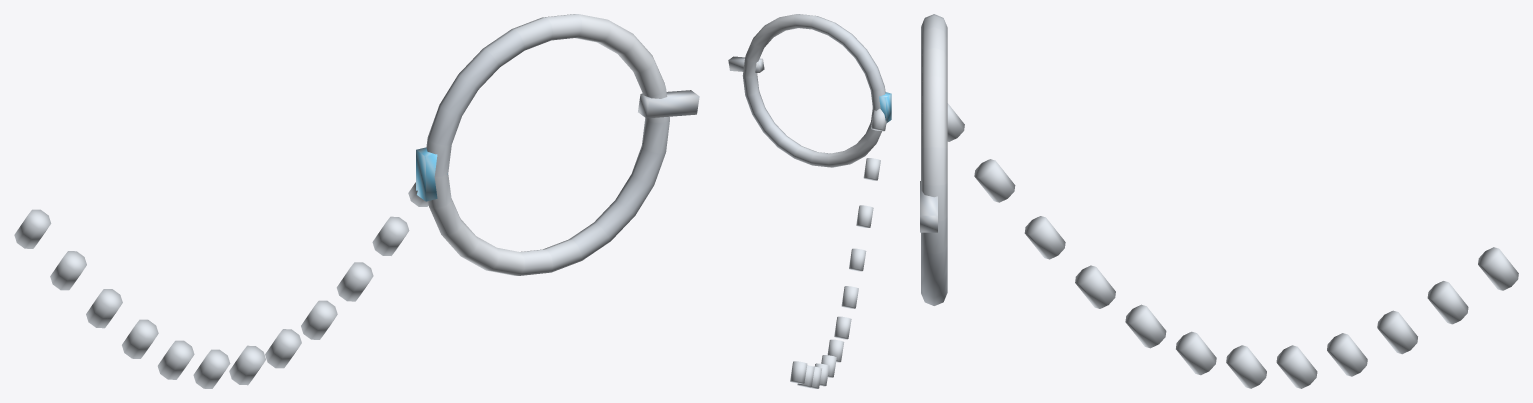
File: silver-monocle.glb
3 renders of one model, left to right at view 1: azimuth 30°, elevation 25°; view 2: azimuth 150°, elevation 25°; view 3: azimuth 270°, elevation 25°, orthographic. The views are drawn at different scales.
Parts seen in each view (by area): view 1: TS_HeadProp_silver-monocle; view 2: TS_HeadProp_silver-monocle; view 3: TS_HeadProp_silver-monocle.
Part boxes in pixels (<box>): TS_HeadProp_silver-monocle: <box>14,14,699,388</box>; TS_HeadProp_silver-monocle: <box>728,14,891,388</box>; TS_HeadProp_silver-monocle: <box>920,14,1518,388</box>.
Size of the model in its own units: 0.0943 by 0.099 by 0.1167.
1 material, 1 textured.
